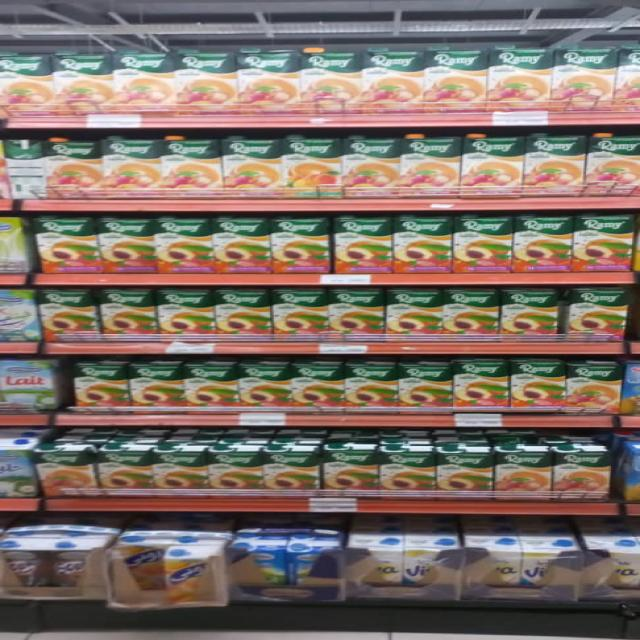ramy_carton: (417, 45, 493, 114), (359, 46, 432, 116), (170, 48, 243, 116), (488, 435, 561, 503), (227, 47, 299, 115), (545, 436, 618, 502), (393, 134, 463, 202), (290, 46, 360, 114), (111, 49, 182, 116), (520, 130, 589, 198), (320, 435, 393, 499), (459, 132, 526, 200), (432, 437, 501, 502), (367, 436, 437, 500), (51, 51, 118, 117), (222, 135, 290, 200), (100, 135, 169, 199), (280, 134, 346, 200), (568, 212, 637, 275), (512, 212, 580, 275), (30, 437, 101, 497), (254, 438, 326, 497), (342, 136, 408, 200), (494, 44, 556, 111), (34, 214, 102, 275), (204, 438, 275, 496), (554, 46, 618, 110), (149, 216, 217, 276), (582, 134, 640, 204), (146, 439, 217, 496), (451, 213, 516, 275), (391, 213, 456, 275), (162, 136, 224, 200), (95, 215, 162, 274), (331, 215, 396, 275), (207, 216, 273, 275), (268, 216, 333, 275), (0, 51, 58, 116), (563, 287, 629, 342), (234, 357, 300, 412), (505, 356, 568, 413), (448, 358, 514, 412), (35, 287, 99, 342), (179, 358, 243, 413), (286, 358, 351, 412), (392, 359, 457, 413), (340, 358, 406, 411), (499, 288, 566, 340), (562, 359, 625, 414), (44, 137, 99, 200), (384, 287, 450, 339), (127, 358, 189, 413), (439, 287, 503, 340), (153, 287, 220, 337), (268, 287, 332, 339), (210, 288, 275, 339), (70, 358, 132, 411), (324, 287, 386, 340), (98, 287, 161, 338), (101, 443, 153, 497)
